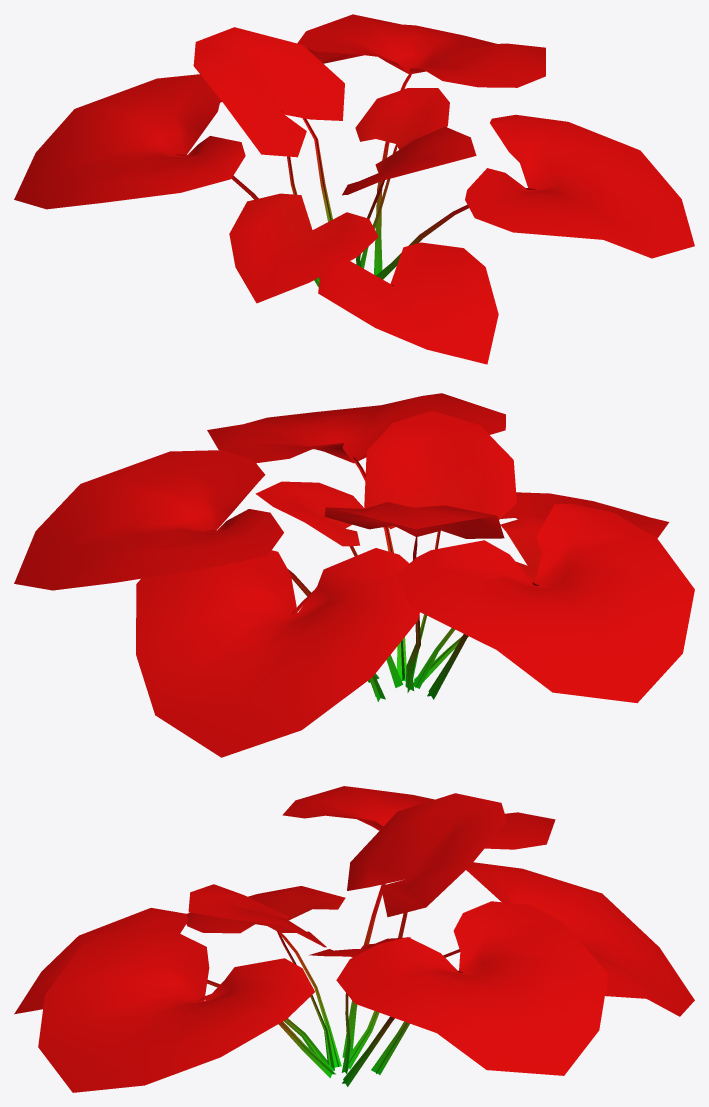
File: Coltsfoot_LOD3_Var10_xbtkdfvqx.fbx
3 views of the same model, one above another, from view 1: azimuth 30°, elevation 25°; view 2: azimuth 150°, elevation 25°; view 3: azimuth 270°, elevation 25° (orthographic). The views are drawn at different scales.
Parts seen in each view (by area): view 1: _2scp_Var10_LOD3; view 2: _2scp_Var10_LOD3; view 3: _2scp_Var10_LOD3.
Part boxes in pixels (x1,y1,x2,y2): _2scp_Var10_LOD3: (14,14,694,364); _2scp_Var10_LOD3: (14,393,694,757); _2scp_Var10_LOD3: (14,786,694,1092).
Size of the model in its own units: 63.9 by 25.26 by 67.72.
